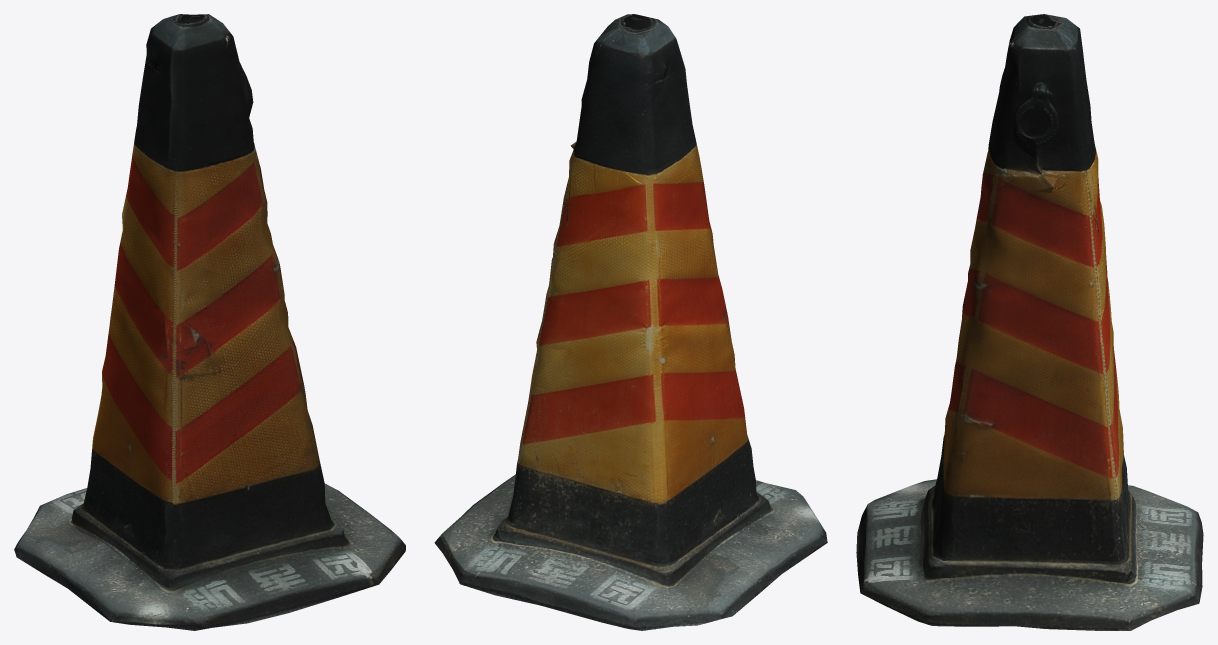
3 renders of one model, left to right at view 1: azimuth 30°, elevation 25°; view 2: azimuth 150°, elevation 25°; view 3: azimuth 270°, elevation 25°, orthographic.
Visible parts, largest first — view 1: barricade; view 2: barricade; view 3: barricade.
Boxes of the visible parts, box(x1,y1,x2,y2) form: barricade: box(14, 14, 405, 630); barricade: box(434, 14, 827, 630); barricade: box(856, 14, 1203, 630).
Bounding box in the file's own units: 0.5225 × 0.9041 × 0.5257.
